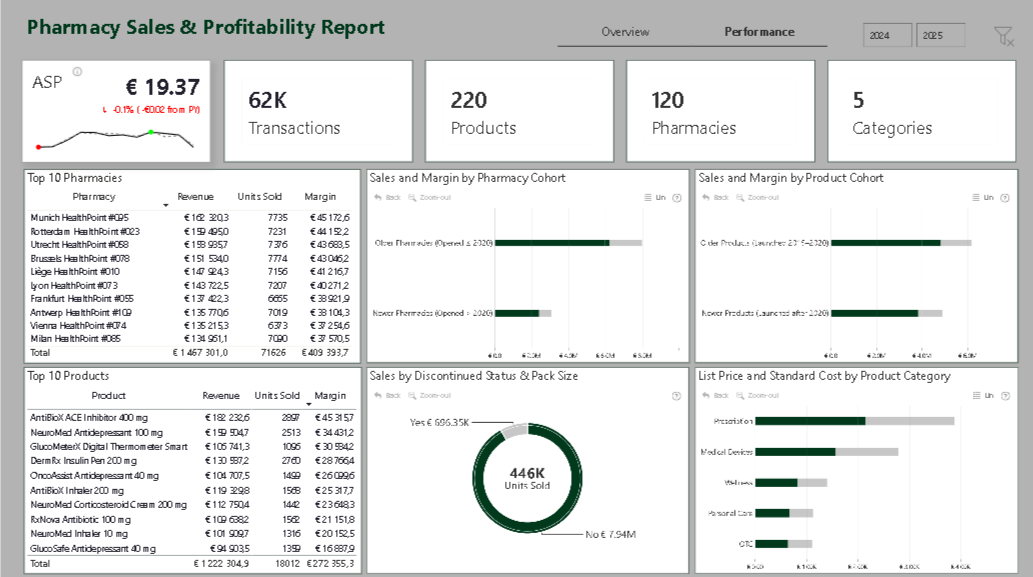

Layout of this report page (visuals, bound fields, positions):
{"tool":"powerbi","page":{"name":"Performance","canvas":[1920,1080],"ordinal":1},"visuals":[{"type":"tableEx","title":"Top 10 Products","fields":{"Values":["DimProduct.ProductName"," Measures.Total Revenue"," Measures.Total Units Sold"," Measures.Gross Margin"]},"box":[42.9,685.7,627,384.1],"z":0},{"type":"ZoomChartsPieChartPaidE77E4ED357DC402ABA005987437CF500","title":"Sales by Discontinued Status & Pack Size","fields":{"Values":[" Measures.Total Revenue"],"kpiContent":[" Measures.Quantity Label"],"kpiValue":[" Measures.Total Units Sold"],"Category":["DimProduct.IsDiscontinued","DimProduct.PackSize"]},"box":[680,685.7,599.4,384],"z":1000},{"type":"tableEx","title":"Top 10 Pharmacies ","fields":{"Values":["DimPharmacy.PharmacyName"," Measures.Total Revenue"," Measures.Total Units Sold"," Measures.Gross Margin"]},"box":[44.4,317.5,625.4,360.3],"z":2000},{"type":"lineChart","fields":{"Category":["DimDate.MonthShort"],"Y":[" Measures.Average Selling Price"," Measures.ASP PY"," Measures.min val asp"," Measures.max val asp"]},"box":[40.6,114.5,350,190.6],"z":3000},{"type":"ZoomChartsDrillDownComboBarProE77E4ED357DC402ABA005987437CF8","title":"Sales and Margin by Pharmacy Cohort","fields":{"Category":["DimPharmacy.Pharmacy Cohort"],"Values1":[" Measures.Total Revenue"],"Values2":[" Measures.Gross Margin"]},"box":[679.2,317.5,600,360],"z":4000},{"type":"ZoomChartsDrillDownComboBarProE77E4ED357DC402ABA005987437CF8","title":"List Price and Standard Cost by Product Category","fields":{"Category":["DimProduct.Category"],"Values1":["Sum(DimProduct.ListPriceEUR)"],"Values2":["Sum(DimProduct.StandardCostEUR)"]},"box":[1289.6,685.7,600.5,384],"z":5000},{"type":"ZoomChartsDrillDownComboBarProE77E4ED357DC402ABA005987437CF8","title":"Sales and Margin by Product Cohort","fields":{"Values1":[" Measures.Total Revenue"],"Values2":[" Measures.Gross Margin"],"Category":["DimProduct.Product Cohort"]},"box":[1288.6,317.5,600,360],"z":6000},{"type":"cardVisual","fields":{"Data":[" Measures.Total Transactions"]},"box":[414.3,115.1,350,190],"z":7000},{"type":"cardVisual","fields":{"Data":[" Measures.Total Pharmacies"]},"box":[1161.5,115.1,350,190],"z":8000},{"type":"cardVisual","fields":{"Data":[" Measures.Total Products"]},"box":[787.9,115.1,350,190],"z":9000},{"type":"textbox","box":[43.2,22.7,697.7,75],"z":10000},{"type":"image","box":[1845.5,54.5,36.4,36.4],"z":11000},{"type":"image","box":[132.8,127.9,19.7,19.7],"z":12000},{"type":"pageNavigator","box":[1034.1,31.8,500,59.1],"z":13000},{"type":"textbox","box":[53.5,127.9,79.1,69.8],"z":14000},{"type":"cardVisual","fields":{"Data":["Count(DimProduct.Category)"]},"box":[1535.1,115.1,350,190],"z":15000},{"type":"advancedSlicerVisual","fields":{"Values":["DimDate.Year"]},"box":[1597.2,42.3,200,55],"z":16000}]}

Visuals, with their boxes in screenshot pixels (x1, y1, x2, y2), scaled from the page's 1920x1080 canvas onto the 1033x577 screenshot:
"Top 10 Products" tableEx: 23,366,360,572
"Sales by Discontinued Status & Pack Size" ZoomChartsPieChartPaidE77E4ED357DC402ABA005987437CF500: 366,366,688,571
"Top 10 Pharmacies " tableEx: 24,170,360,362
lineChart - DimDate.MonthShort x  Measures.Average Selling Price: 22,61,210,163
"Sales and Margin by Pharmacy Cohort" ZoomChartsDrillDownComboBarProE77E4ED357DC402ABA005987437CF8: 365,170,688,362
"List Price and Standard Cost by Product Category" ZoomChartsDrillDownComboBarProE77E4ED357DC402ABA005987437CF8: 694,366,1017,571
"Sales and Margin by Product Cohort" ZoomChartsDrillDownComboBarProE77E4ED357DC402ABA005987437CF8: 693,170,1016,362
cardVisual -  Measures.Total Transactions: 223,61,411,163
cardVisual -  Measures.Total Pharmacies: 625,61,813,163
cardVisual -  Measures.Total Products: 424,61,612,163
textbox: 23,12,399,52
image: 993,29,1013,49
image: 71,68,82,79
pageNavigator: 556,17,825,49
textbox: 29,68,71,106
cardVisual - Count(DimProduct.Category): 826,61,1014,163
advancedSlicerVisual - DimDate.Year: 859,23,967,52
